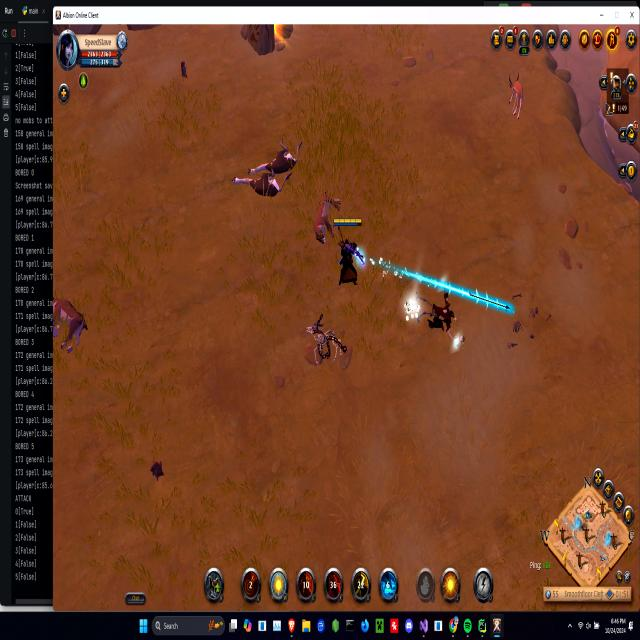mob: (229, 134, 305, 200), (54, 289, 91, 355), (311, 183, 340, 250)
ore: (506, 68, 525, 120)
red: (330, 213, 366, 290)
